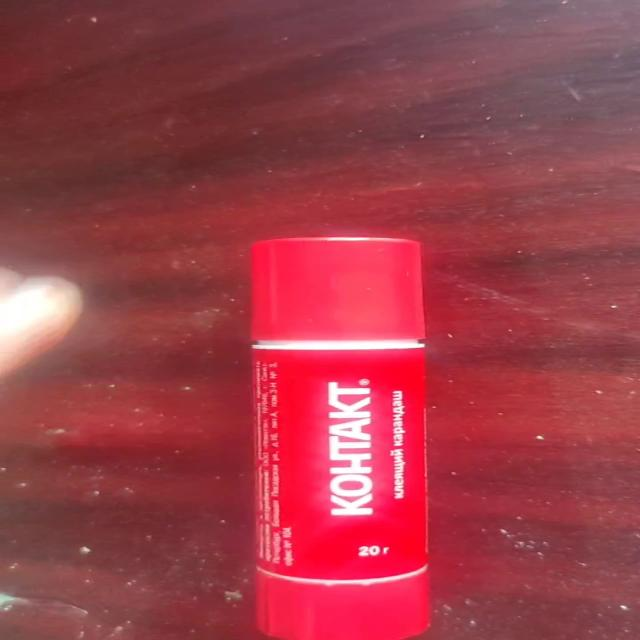glue: (248, 236, 431, 638)
